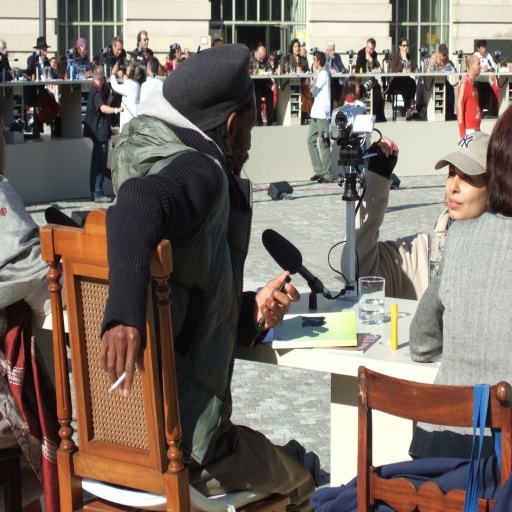hand: (90, 324, 136, 396), (254, 271, 300, 333), (376, 134, 398, 160), (112, 62, 120, 72), (116, 105, 124, 113), (295, 66, 302, 72), (366, 53, 370, 61)
